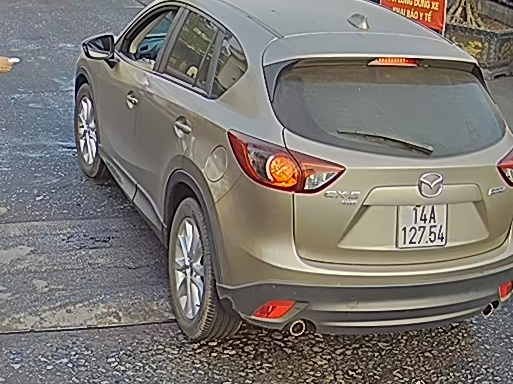vehicle plate: (390, 201, 453, 249)
